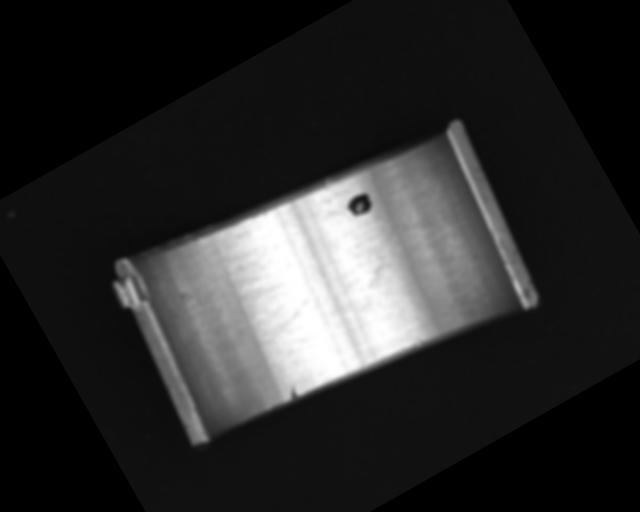blot: (346, 225, 415, 291), (342, 189, 377, 221)
bruise: (285, 383, 300, 400), (413, 337, 425, 348)
